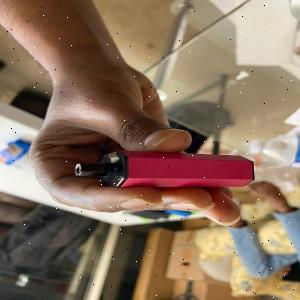Blume-E-Ciggirate: (70, 149, 260, 193)
